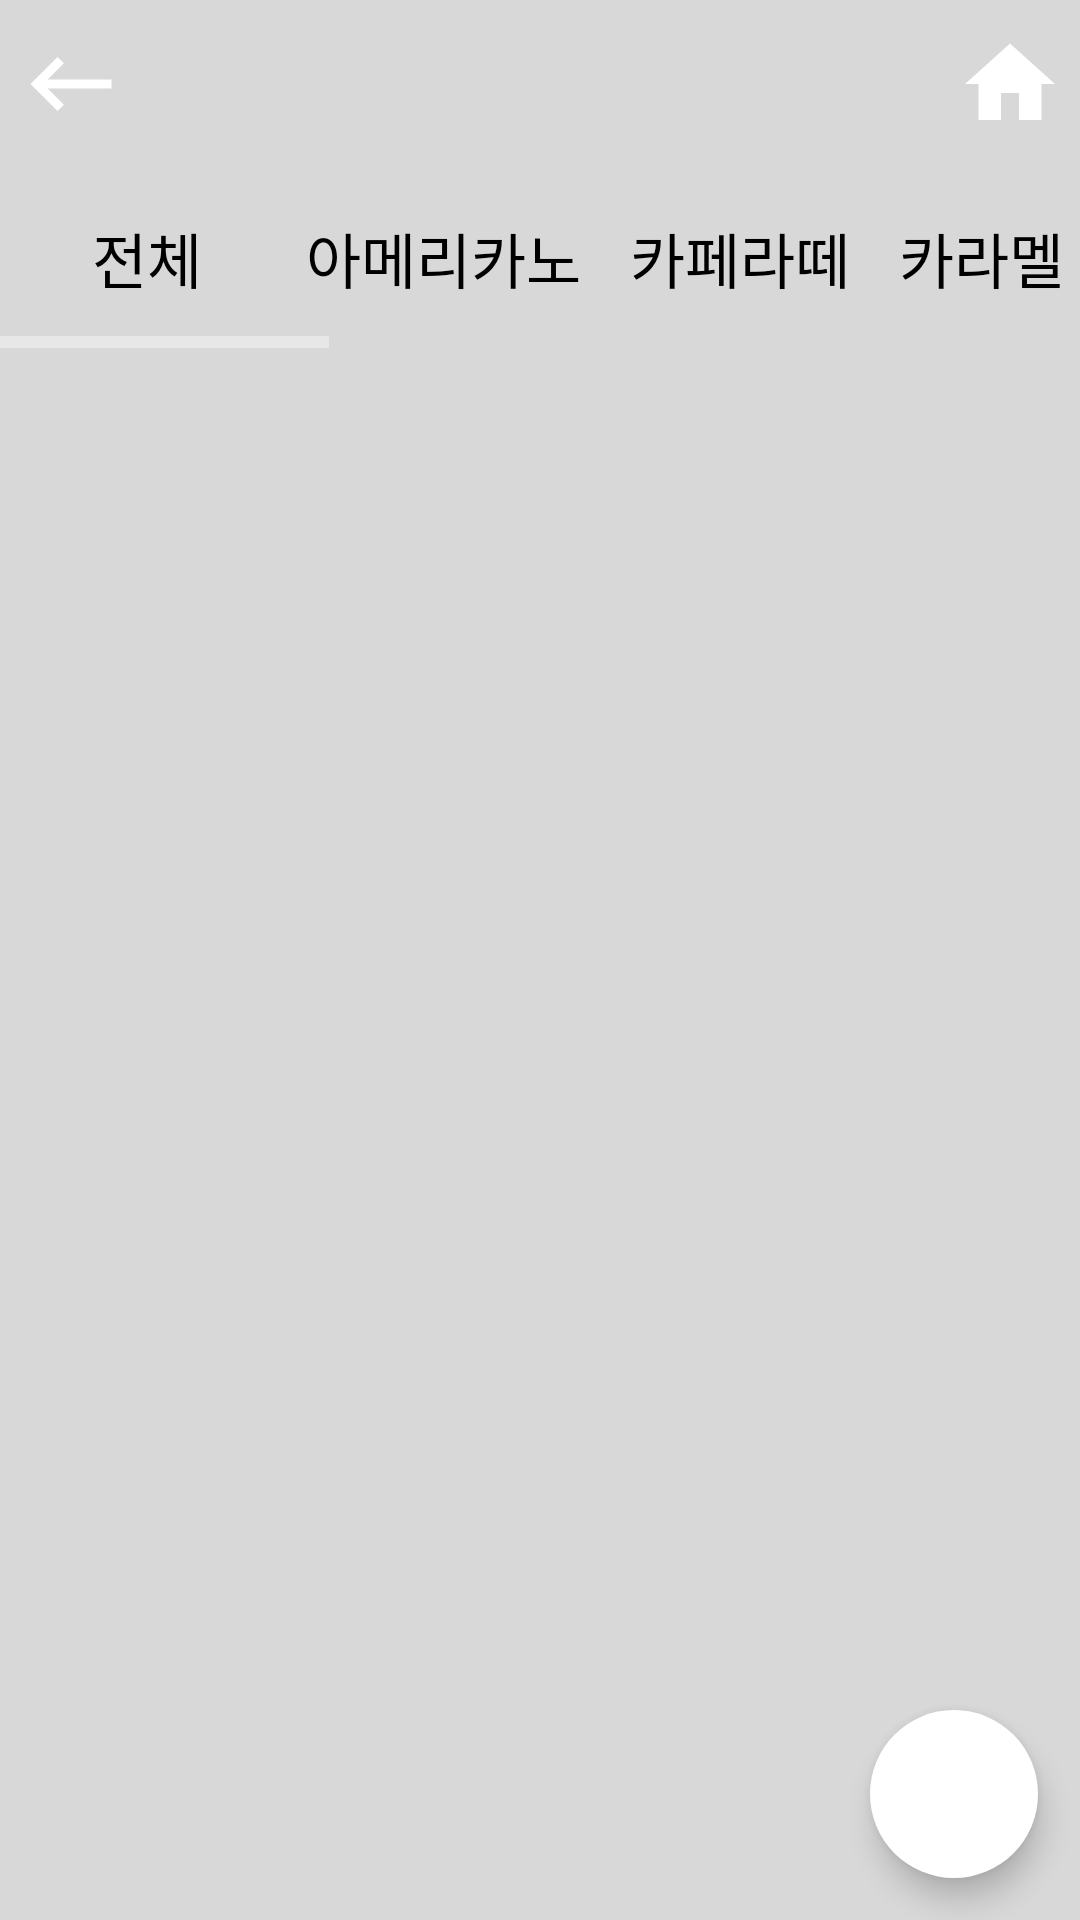

Point at icon controls on the screen. Image size 1080px×1920px, points as (x,y).
home: (1010,82)
